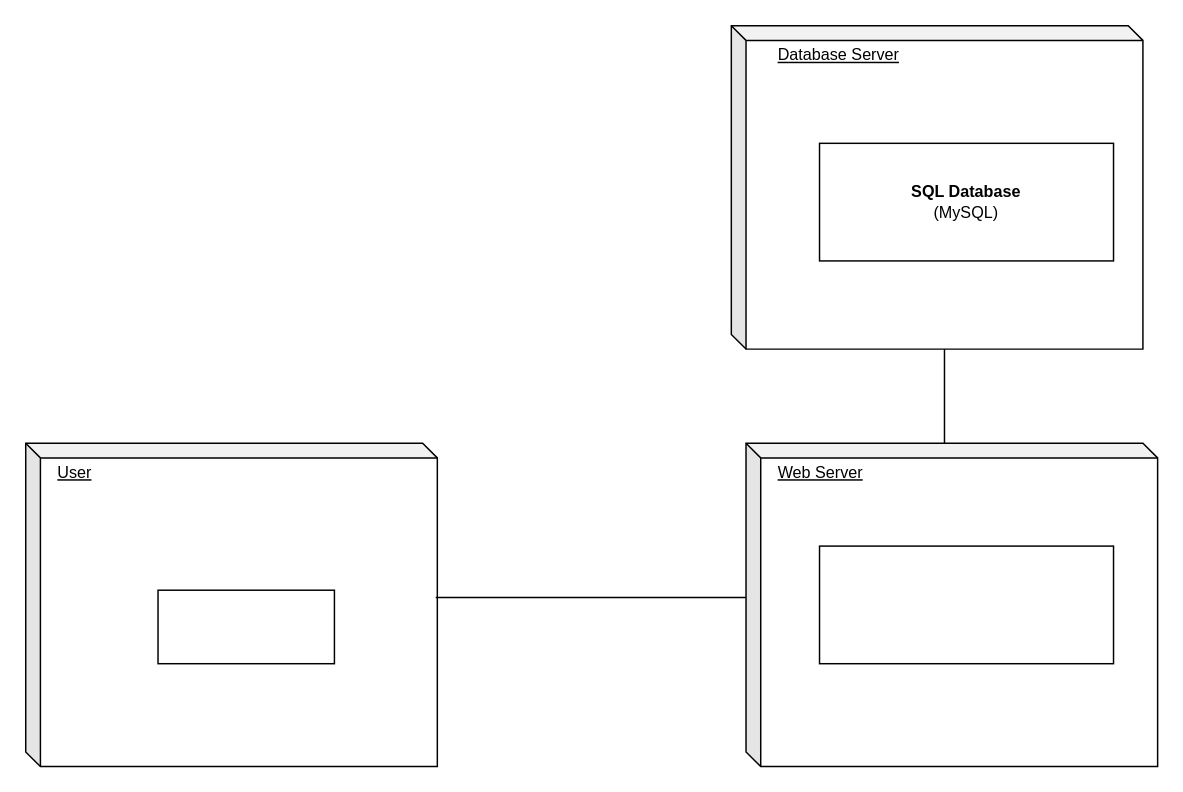
Some shapes in this 1183 by 792 pixel diagram are drawn without their labels. Here are the shapes that lost their labels. From the top down, the centre of each, then its label:
At point 966,604: "Web File (Sistem Informasi Monitoring Logistik dan Alat Produksi)".
At point 245,626: "«device» Web Browser".
